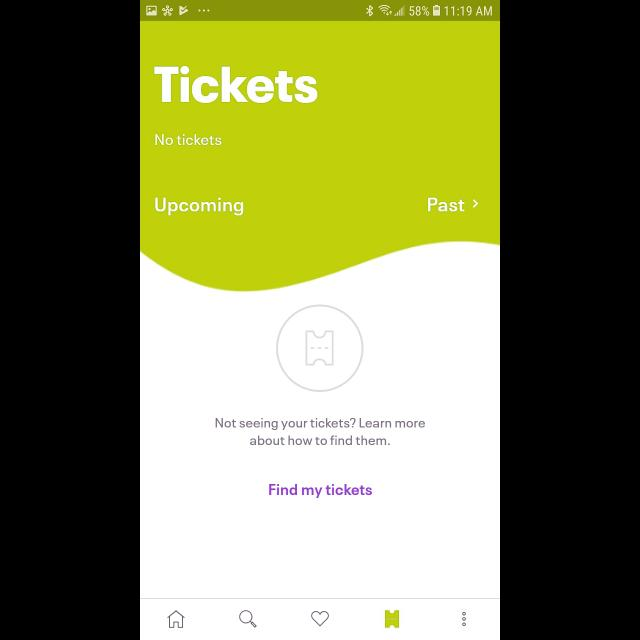icon: (239, 610, 257, 628), (167, 610, 185, 628), (311, 611, 329, 627), (385, 610, 399, 628), (472, 199, 478, 209), (462, 612, 466, 626)
image: (276, 304, 364, 392)
text: (154, 65, 318, 103), (215, 418, 425, 446), (156, 198, 244, 216), (270, 484, 372, 498), (154, 133, 222, 145), (428, 196, 464, 212)
uppertaskbar: (140, 1, 500, 22)
